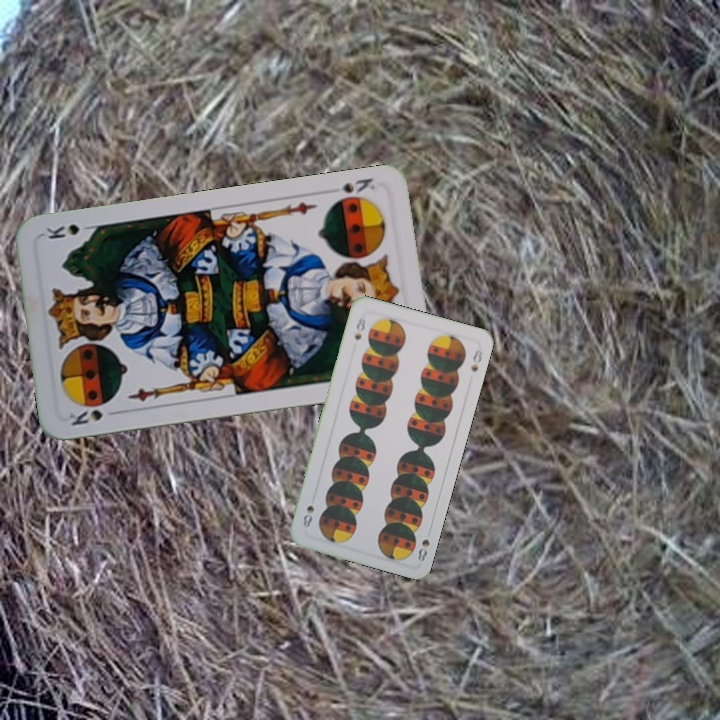S8: (414, 525, 434, 565), (350, 314, 368, 342)
SK: (64, 405, 122, 428), (338, 173, 378, 196)
